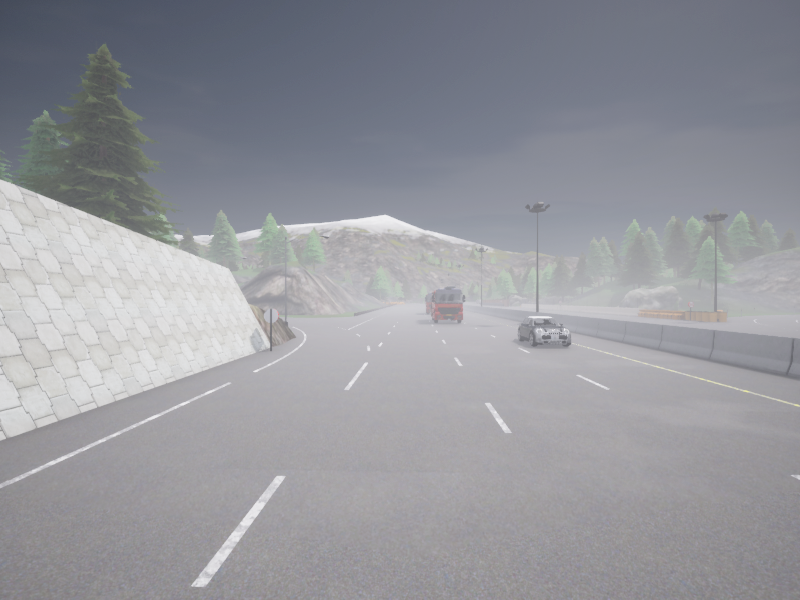vehicle: (518, 316, 570, 346), (431, 286, 465, 322), (425, 293, 431, 313), (476, 300, 480, 303)
